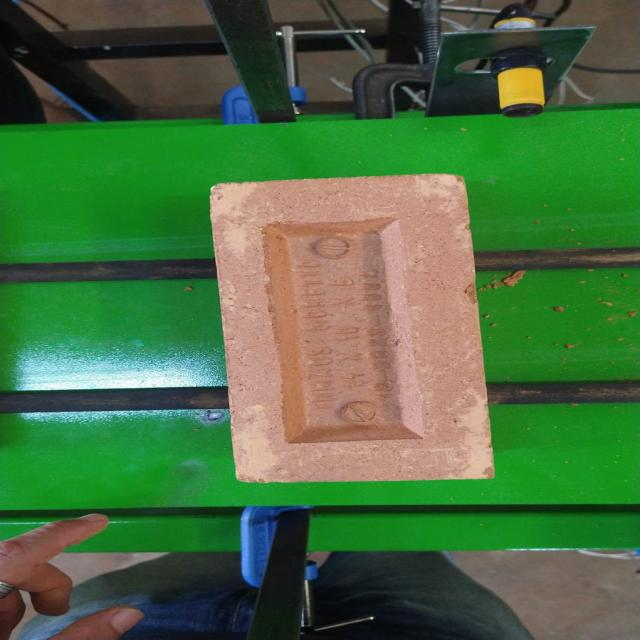bricks: (208, 172, 495, 484)
